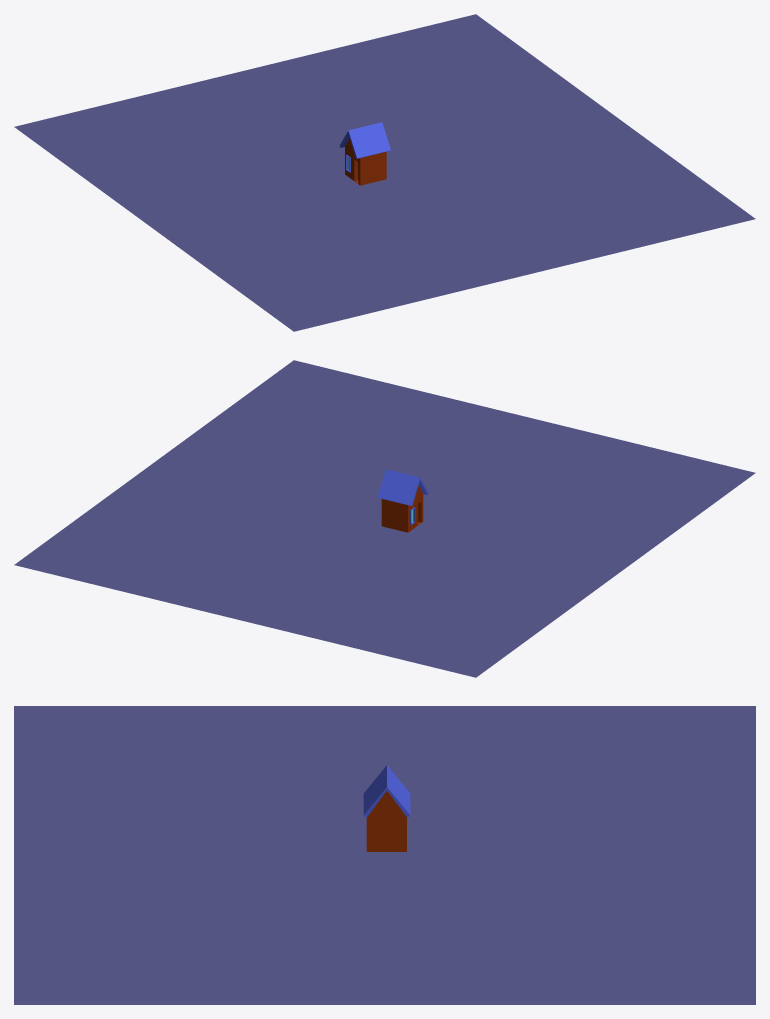
Rendered from home.glb.
The picture shows the model from 3 angles, top to bottom: view 1: azimuth 30°, elevation 25°; view 2: azimuth 150°, elevation 25°; view 3: azimuth 270°, elevation 25°; orthographic projection. The views are drawn at different scales.
Visible parts, largest first — view 1: Cube; view 2: Cube; view 3: Cube.
Part boxes in pixels (box(x1,y1,x2,y2)): Cube: box(14, 14, 755, 331); Cube: box(14, 360, 755, 677); Cube: box(14, 706, 755, 1004).
Bounding box in the file's own units: 35.06 × 3.68 × 36.79.
